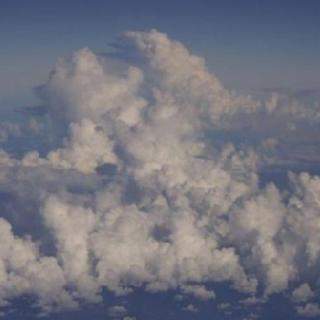Cumulus: (0, 28, 320, 320)
